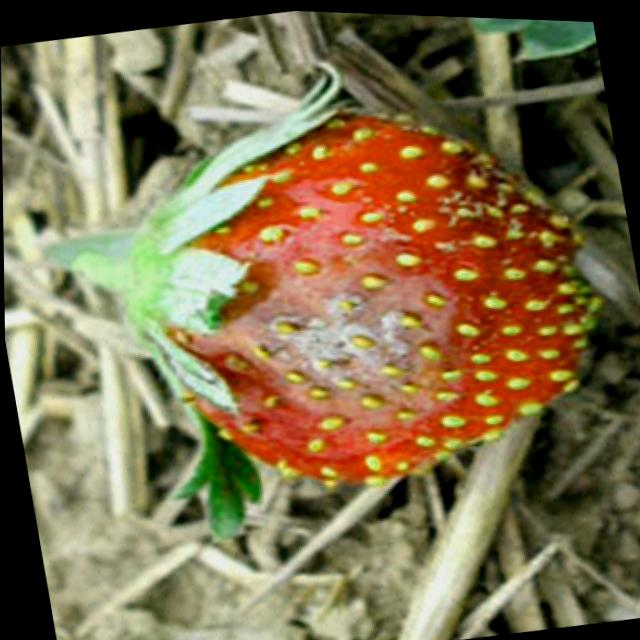Gray Mold: (227, 227, 464, 461)
